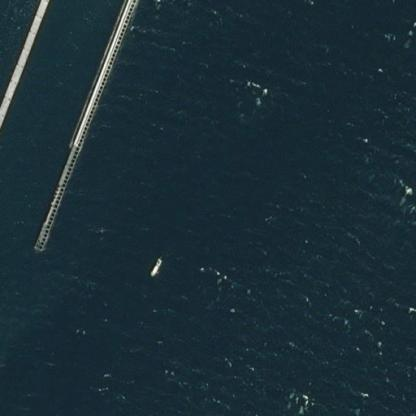ship: (142, 253, 170, 280)
